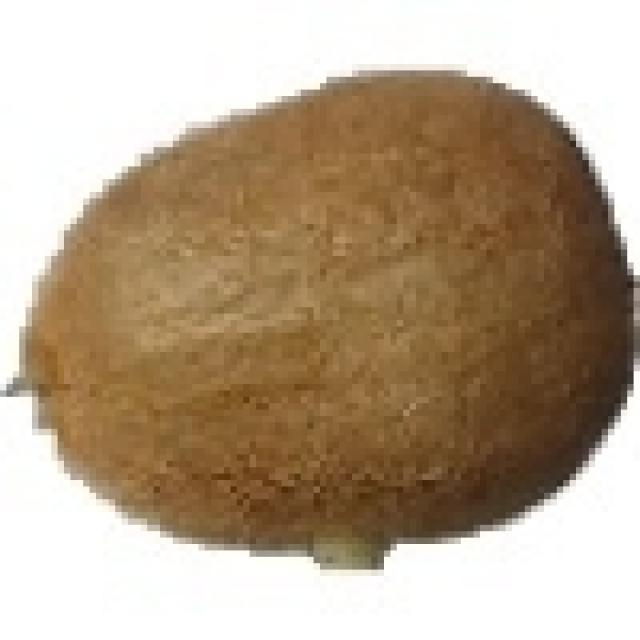kiwi: (19, 64, 621, 550)
